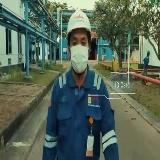Helmet: (66, 7, 91, 37)
